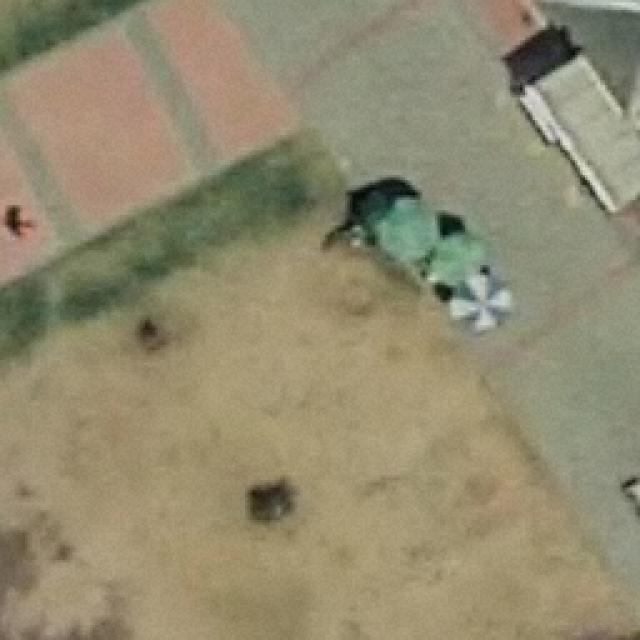vendedor_ambulante: (366, 190, 442, 260), (446, 270, 520, 338), (420, 228, 491, 286)
